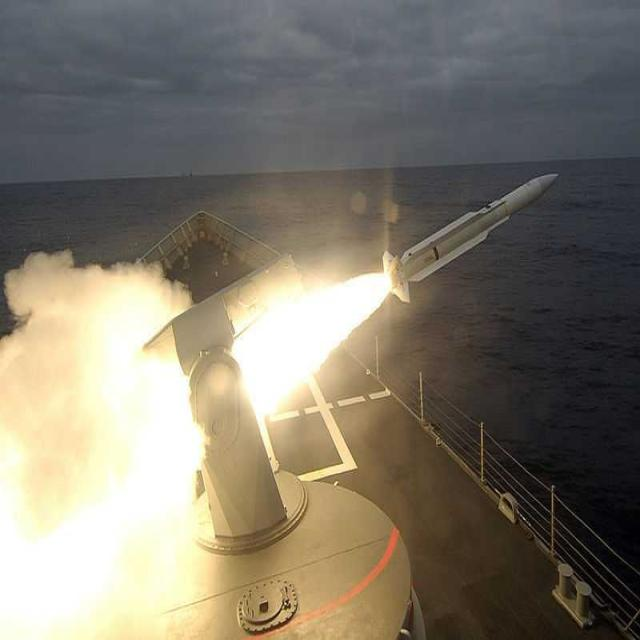missile: (382, 168, 560, 284)
